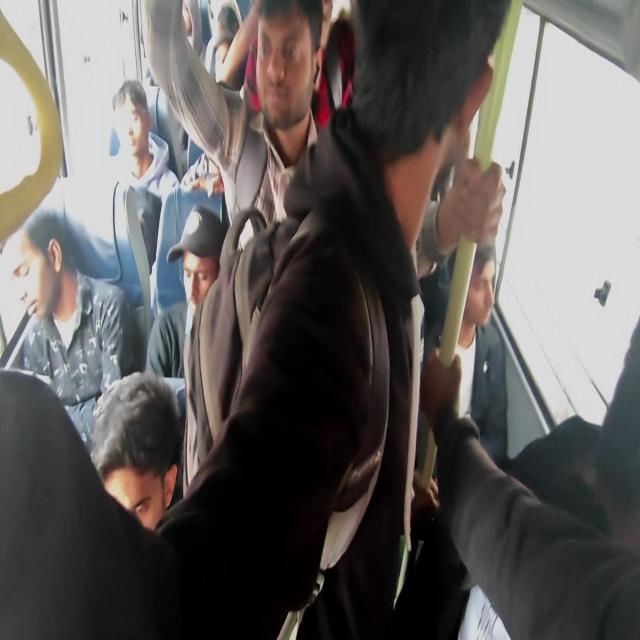person: (558, 306, 640, 624), (419, 238, 506, 470), (93, 399, 179, 558), (115, 78, 180, 215), (257, 6, 314, 130), (4, 225, 53, 334), (182, 238, 222, 326), (209, 34, 242, 93), (318, 0, 340, 67), (181, 5, 202, 43), (216, 4, 242, 34)
